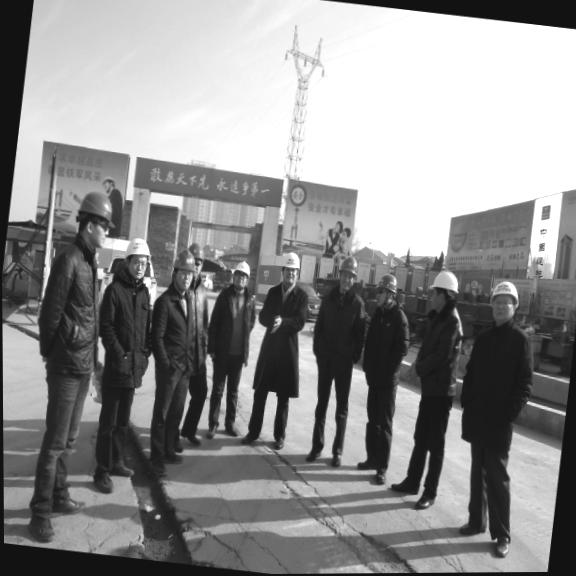no_safety_vest: (33, 239, 111, 389), (456, 317, 540, 448), (94, 272, 160, 399), (409, 306, 470, 403), (308, 283, 371, 374), (258, 283, 311, 385), (147, 285, 201, 380), (204, 291, 258, 376), (359, 304, 414, 387)
